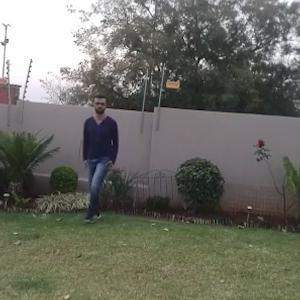follow: (77, 82, 136, 248)
